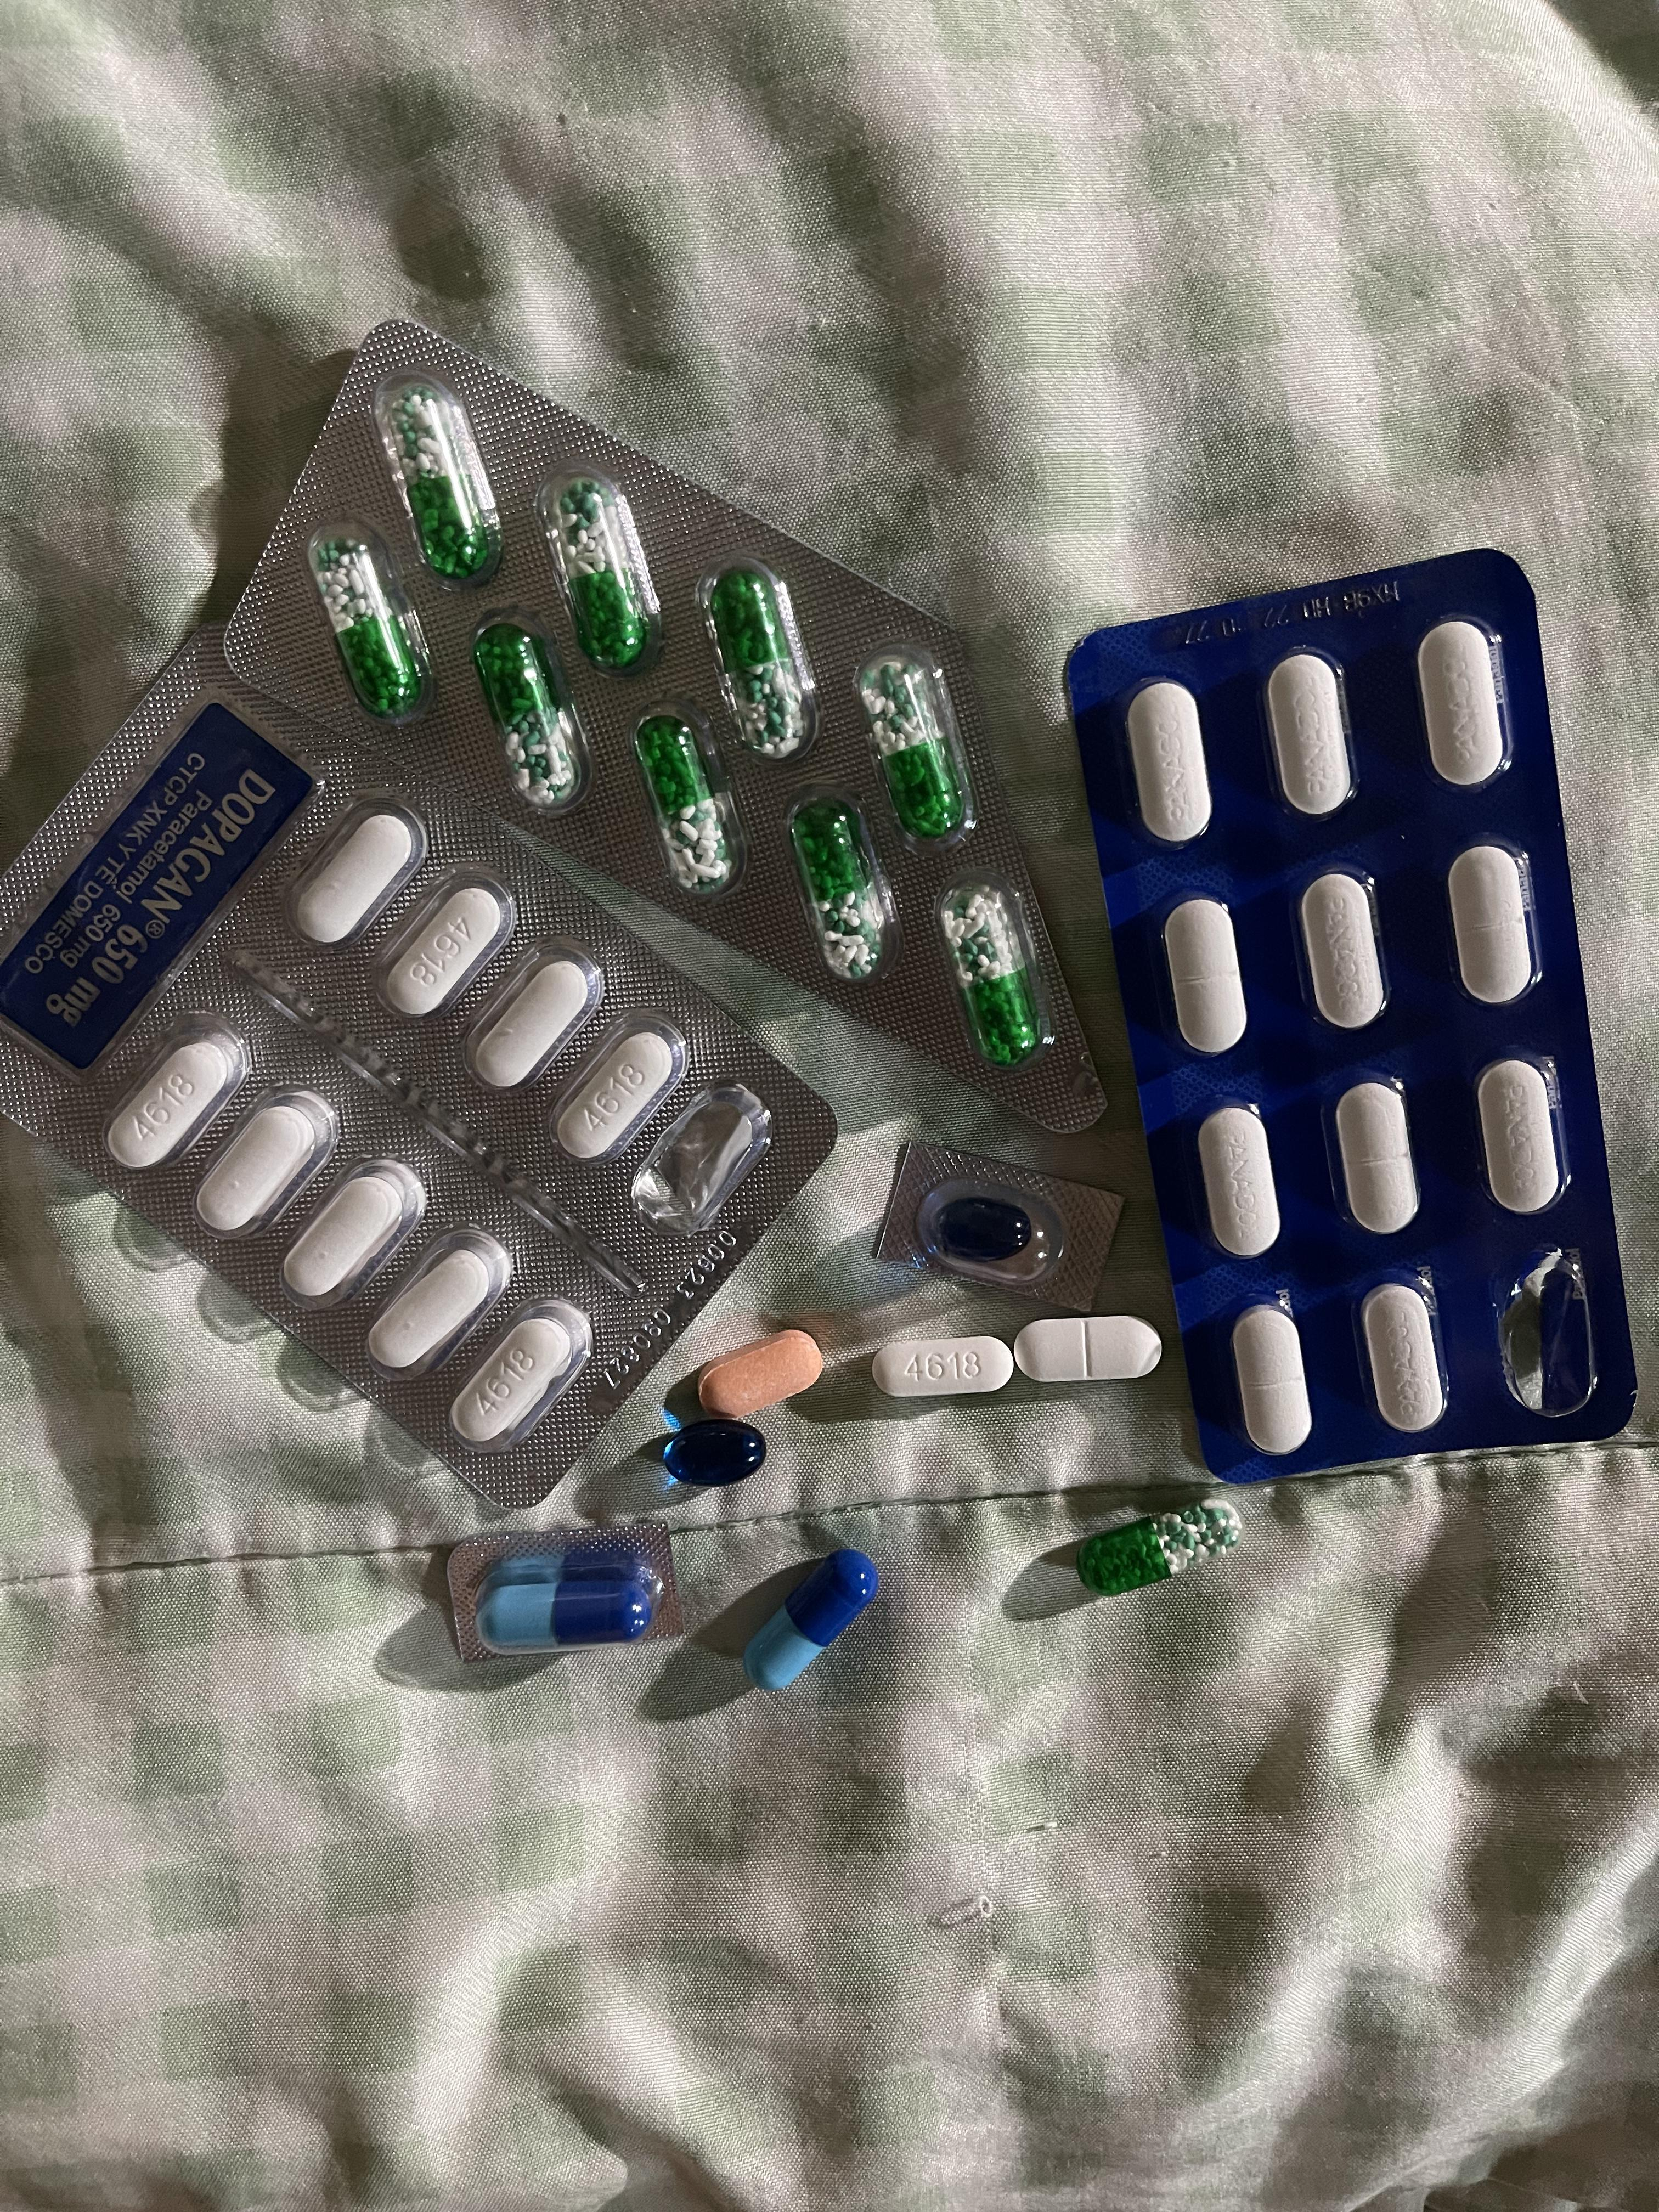Lincomyxin_500mg: (660, 1420, 772, 1487), (934, 1195, 1035, 1263)
Loratadine_10mg: (701, 1331, 819, 1420)
Paracetamol_350mg: (1417, 622, 1507, 791), (1267, 653, 1358, 819), (1300, 873, 1392, 1033), (1474, 1059, 1565, 1219), (1448, 845, 1537, 1007), (1335, 1080, 1424, 1237), (1361, 1282, 1448, 1437), (1127, 683, 1209, 846), (1164, 899, 1248, 1055), (1197, 1106, 1281, 1259), (1230, 1303, 1310, 1456), (1018, 1315, 1164, 1383)
Paracetamol_500mg: (275, 1150, 429, 1308), (364, 1228, 516, 1383), (197, 1082, 345, 1238), (105, 1010, 249, 1170), (448, 1299, 596, 1449), (472, 960, 596, 1094), (296, 810, 420, 942), (558, 1031, 674, 1160), (385, 890, 502, 1014), (871, 1334, 1006, 1399)
Paracetamol_650mg: (390, 388, 495, 585), (314, 536, 416, 718), (636, 723, 734, 913), (474, 627, 575, 801), (558, 486, 647, 672), (711, 571, 798, 754), (945, 887, 1033, 1062), (864, 665, 955, 831), (791, 806, 878, 977), (1082, 1500, 1227, 1595)
pill: (479, 1545, 662, 1649), (744, 1548, 871, 1693)
